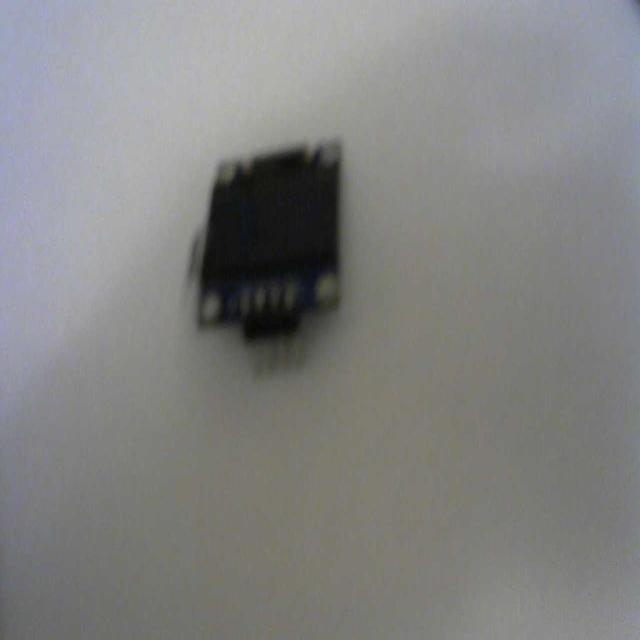oled: (192, 148, 350, 380)
